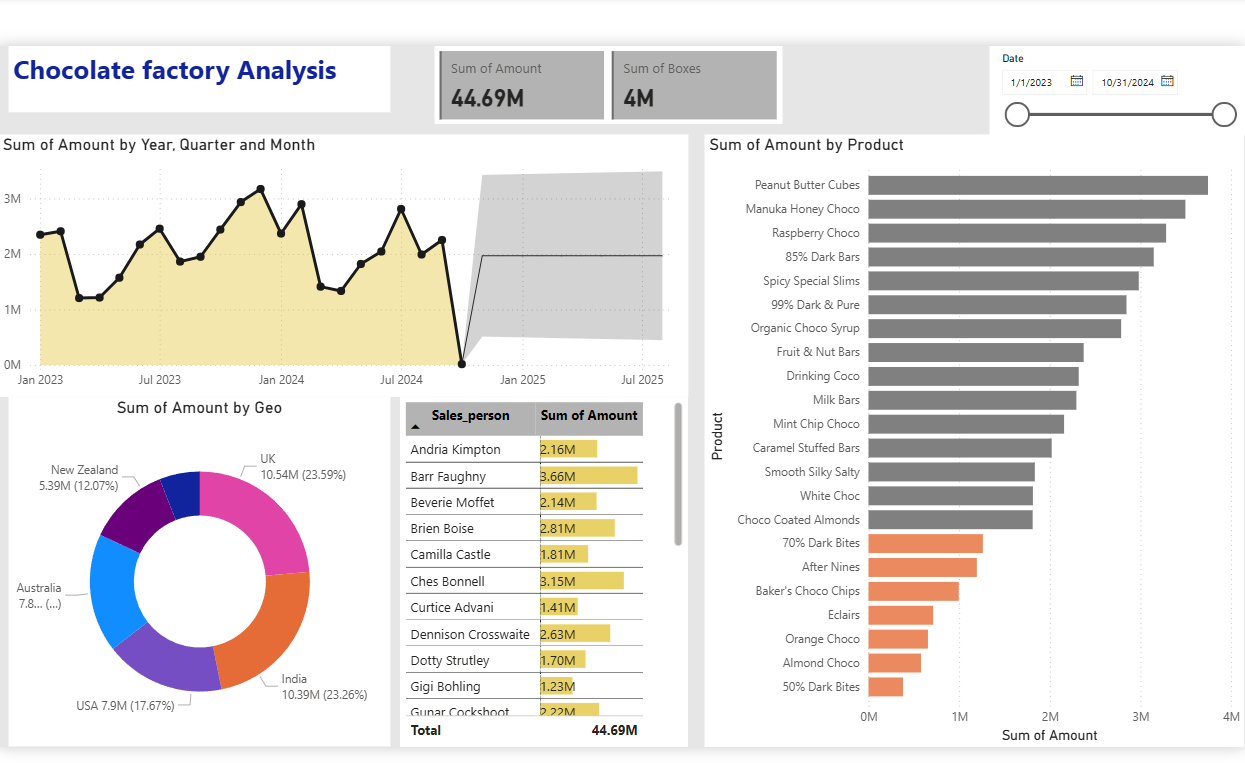

The page's visual inventory and layout, read from the dashboard file:
{"tool":"powerbi","page":{"name":"Page 2","canvas":[1280,720],"ordinal":1},"visuals":[{"type":"lineChart","fields":{"Category":["calendar.cal_date.Variation.Date Hierarchy.Year","calendar.cal_date.Variation.Date Hierarchy.Quarter","calendar.cal_date.Variation.Date Hierarchy.Month","calendar.cal_date.Variation.Date Hierarchy.Day"],"Y":["shipments.Amount"]},"box":[0,90.9,708.6,269.5],"z":0},{"type":"donutChart","fields":{"Category":["locations.Geo"],"Y":["shipments.Amount"]},"box":[10.6,360.4,392.2,358.9],"z":1000},{"type":"tableEx","fields":{"Values":["people.Sales_person","shipments.Amount"]},"box":[413.4,360.4,295.3,358.9],"z":2000},{"type":"clusteredBarChart","fields":{"Y":["shipments.Amount"],"Category":["products.Product"]},"box":[725.3,90.9,554.2,628.4],"z":3000},{"type":"cardVisual","fields":{"Data":["shipments.Amount","shipments.Boxes"]},"box":[448.2,0,357.4,80.3],"z":4000},{"type":"slicer","fields":{"Values":["calendar.cal_date"]},"box":[1017.5,0,262,90.9],"z":5000},{"type":"textbox","box":[10.6,0,392.2,68.1],"z":6000}]}

Visuals, with their boxes on the page's 1280x720 design canvas (x1, y1, x2, y2). These are canvas units, not pixel positions in the 1245x763 screenshot, which may show the page scaled, cropped or inside an application window:
lineChart - calendar.cal_date.Variation.Date Hierarchy.Year x calendar.cal_date.Variation.Date Hierarchy.Quarter: left=0, top=91, right=709, bottom=360
donutChart - locations.Geo x shipments.Amount: left=11, top=360, right=403, bottom=719
tableEx - people.Sales_person x shipments.Amount: left=413, top=360, right=709, bottom=719
clusteredBarChart - shipments.Amount x products.Product: left=725, top=91, right=1280, bottom=719
cardVisual - shipments.Amount x shipments.Boxes: left=448, top=0, right=806, bottom=80
slicer - calendar.cal_date: left=1018, top=0, right=1280, bottom=91
textbox: left=11, top=0, right=403, bottom=68
